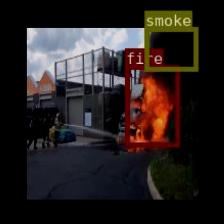fire: (124, 64, 178, 146)
smoke: (144, 27, 197, 70)
